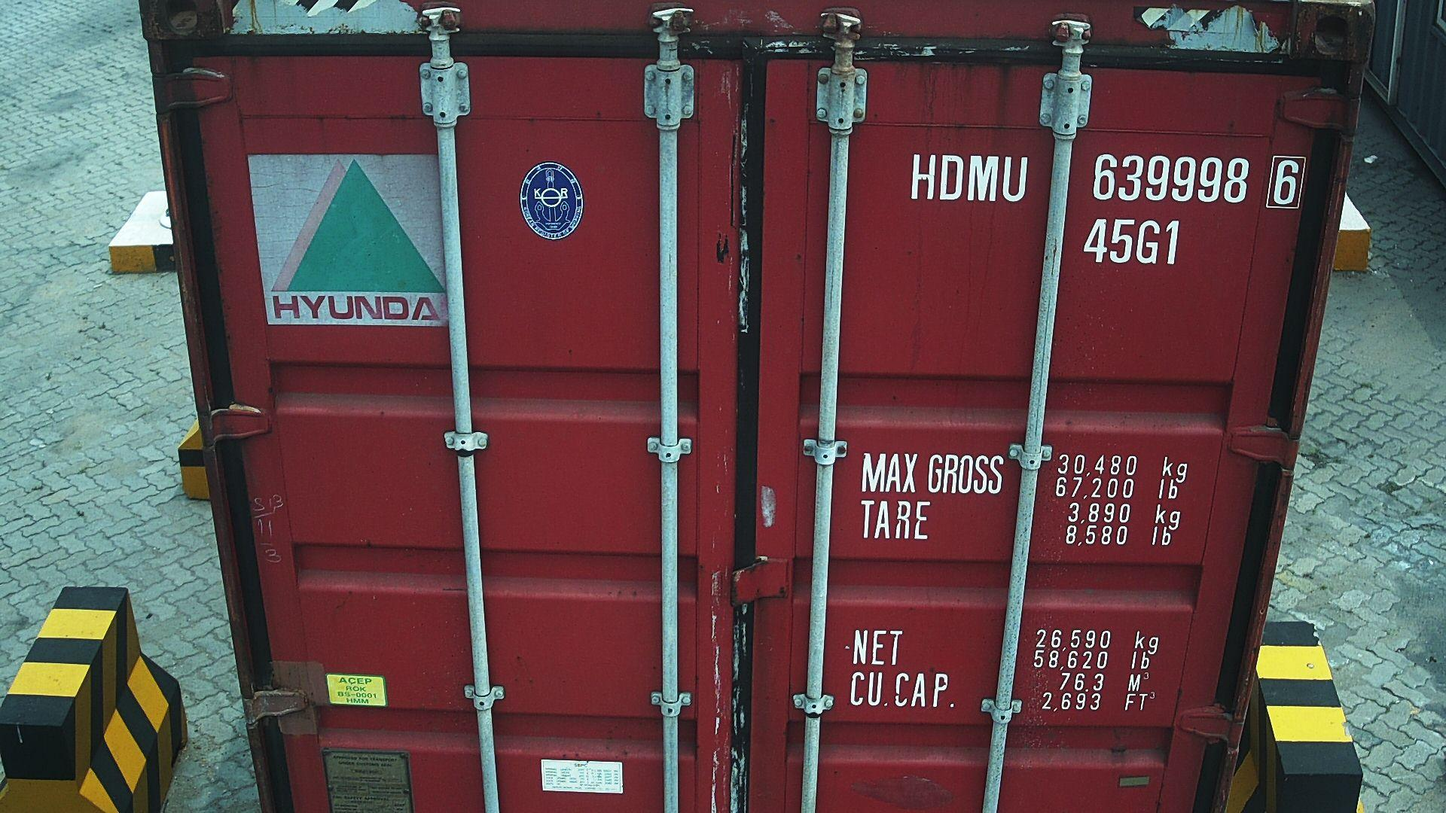container-numbers: (905, 150, 1306, 211), (1080, 217, 1184, 268)
